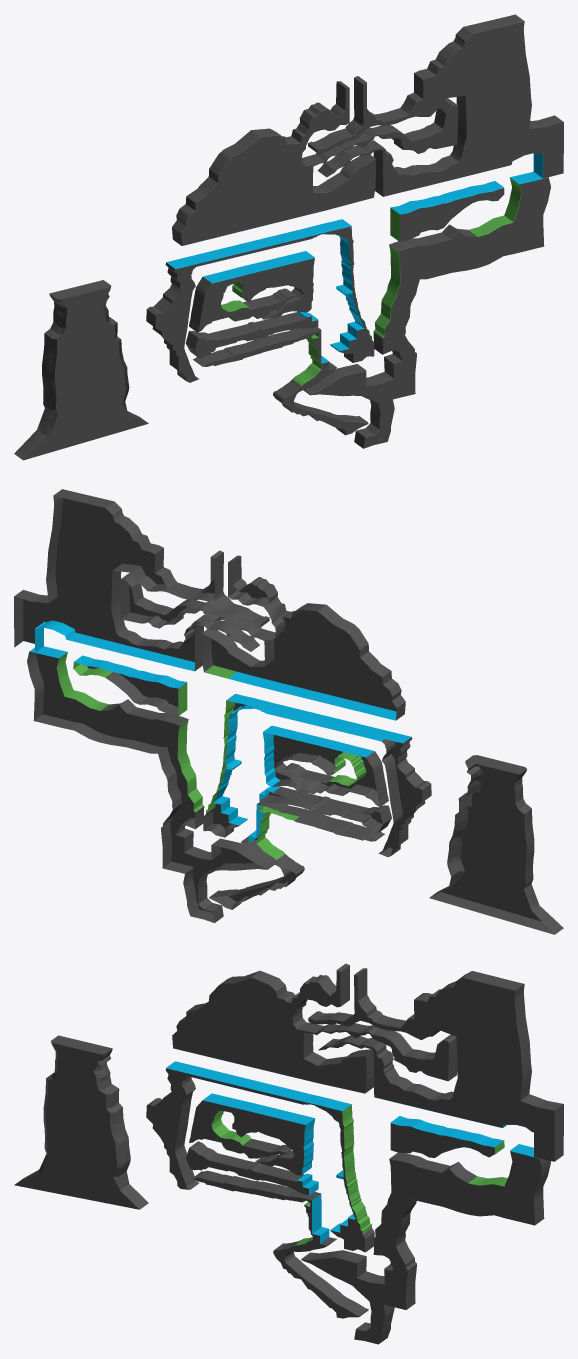
Rendered from lava_levelTopHalf_01_mesh.fbx.
The picture shows the model from 3 angles, top to bottom: view 1: azimuth 30°, elevation 25°; view 2: azimuth 150°, elevation 25°; view 3: azimuth 330°, elevation 25°; orthographic projection.
Parts seen in each view (by area): view 1: TopHalf2; view 2: TopHalf2; view 3: TopHalf2.
Boxes of the visible parts, x1=… form: TopHalf2: x1=14, y1=14, x2=563, y2=460; TopHalf2: x1=14, y1=489, x2=563, y2=934; TopHalf2: x1=14, y1=963, x2=563, y2=1344.
Bounding box in the file's own units: 33866 × 23257 × 1000.
